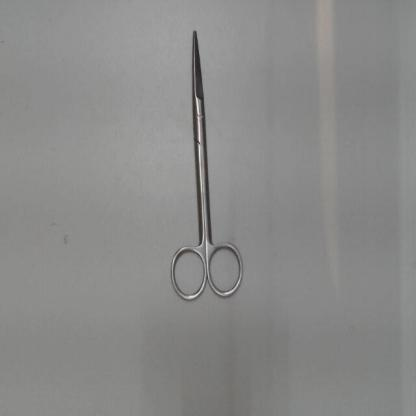Curved Mayo Scissors: (166, 23, 249, 311)
